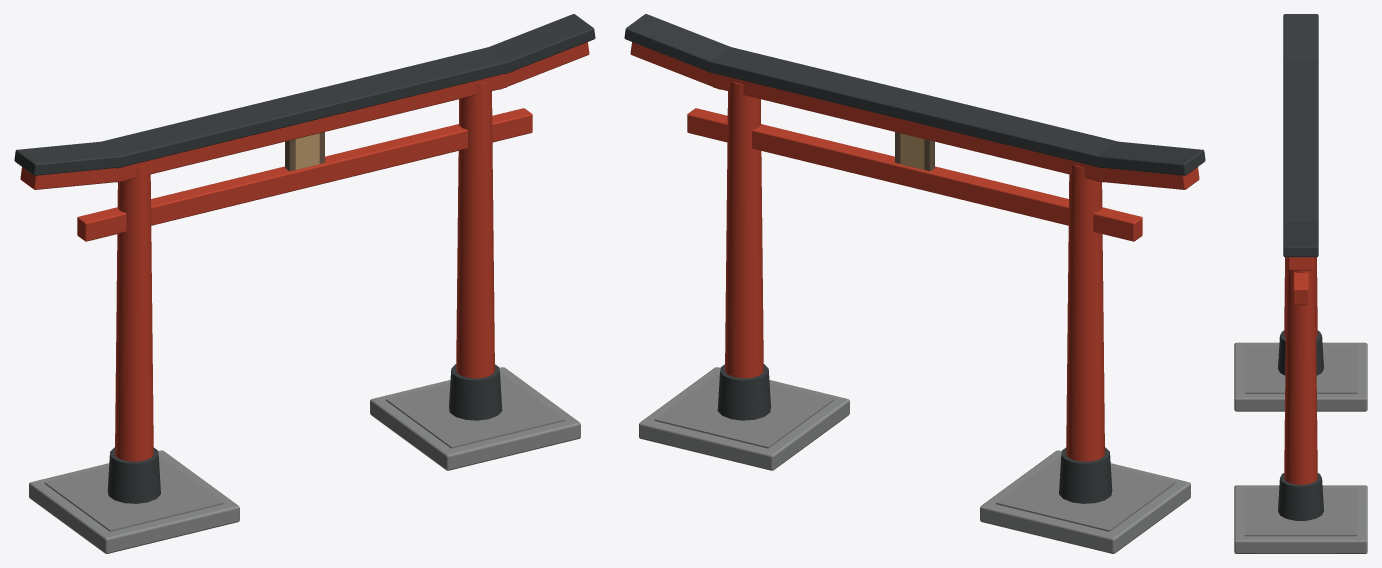
Rendered from village-torii.glb.
3 renders of one model, left to right at view 1: azimuth 30°, elevation 25°; view 2: azimuth 150°, elevation 25°; view 3: azimuth 270°, elevation 25°, orthographic. The views are drawn at different scales.
Parts seen in each view (by area): view 1: post-0:village-vermilion, post-1:village-vermilion, post-1:paint-graphite, post-0:paint-graphite, post-0:village-stone, post-1:village-stone, post-0:village-cobble, post-1:village-cobble; view 2: post-0:village-vermilion, post-1:village-vermilion, post-1:paint-graphite, post-0:paint-graphite, post-0:village-stone, post-1:village-stone, post-0:village-cobble, post-1:village-cobble; view 3: post-1:village-vermilion, post-1:paint-graphite, post-0:paint-graphite, post-1:village-cobble, post-1:village-stone, post-0:village-cobble, post-0:village-stone, post-0:village-vermilion.
Part boxes in pixels (left/top/right/bottom): post-0:village-vermilion: left=20, top=121, right=312, bottom=461; post-1:village-vermilion: left=308, top=42, right=589, bottom=378; post-1:paint-graphite: left=295, top=14, right=595, bottom=420; post-0:paint-graphite: left=14, top=94, right=315, bottom=503; post-0:village-stone: left=29, top=450, right=239, bottom=553; post-1:village-stone: left=370, top=367, right=580, bottom=470; post-0:village-cobble: left=44, top=455, right=223, bottom=531; post-1:village-cobble: left=386, top=372, right=565, bottom=448; post-0:village-vermilion: left=907, top=121, right=1199, bottom=461; post-1:village-vermilion: left=630, top=42, right=911, bottom=378; post-1:paint-graphite: left=624, top=14, right=924, bottom=420; post-0:paint-graphite: left=904, top=94, right=1205, bottom=503; post-0:village-stone: left=980, top=450, right=1190, bottom=553; post-1:village-stone: left=639, top=367, right=849, bottom=470; post-0:village-cobble: left=996, top=455, right=1175, bottom=531; post-1:village-cobble: left=654, top=372, right=833, bottom=448; post-1:village-vermilion: left=1284, top=257, right=1317, bottom=484; post-1:paint-graphite: left=1278, top=141, right=1323, bottom=520; post-0:paint-graphite: left=1278, top=14, right=1323, bottom=375; post-1:village-cobble: left=1244, top=487, right=1357, bottom=536; post-1:village-stone: left=1234, top=485, right=1367, bottom=553; post-0:village-cobble: left=1244, top=345, right=1357, bottom=393; post-0:village-stone: left=1234, top=342, right=1367, bottom=411; post-0:village-vermilion: left=1284, top=257, right=1317, bottom=337.
Size of the model in its own units: 7.9 by 5.11 by 1.9.
